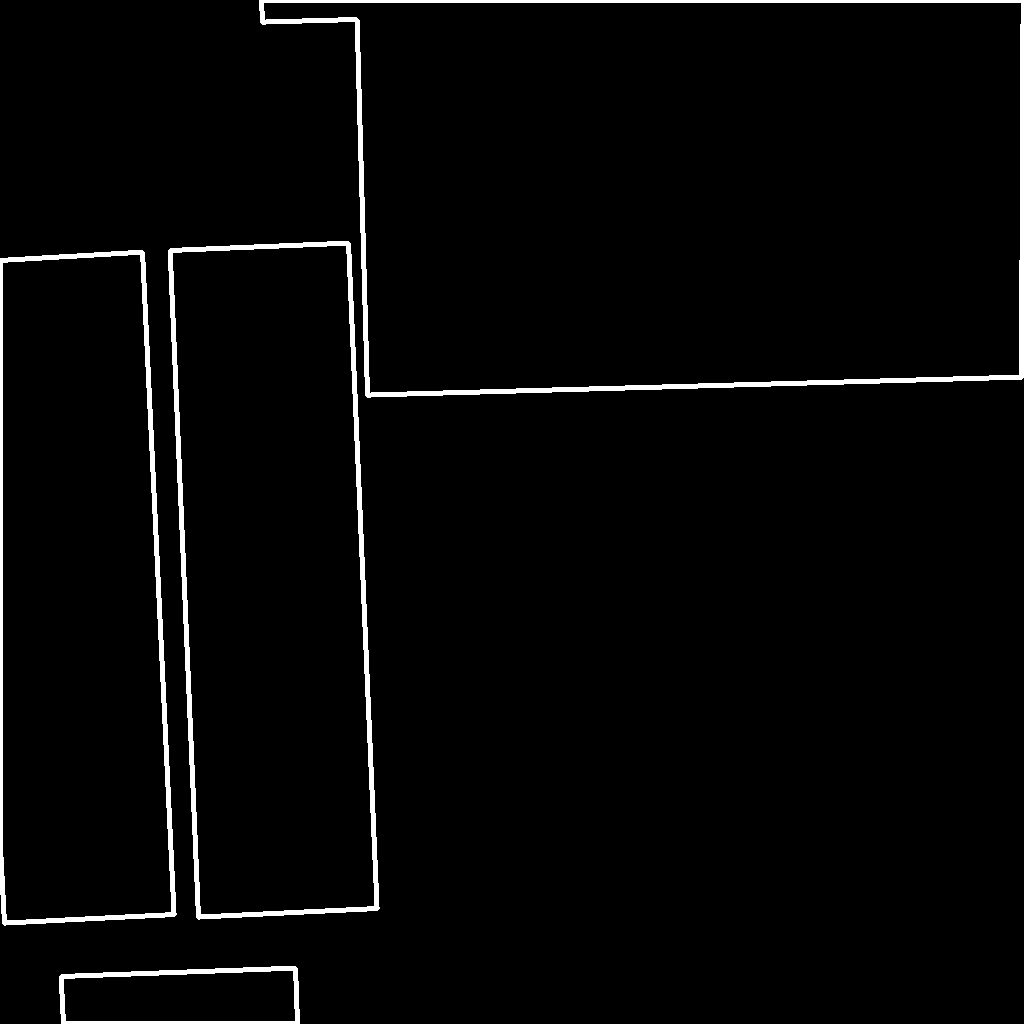building: (261, 0, 1024, 396), (170, 243, 378, 918), (0, 252, 175, 924), (61, 968, 299, 1024)
